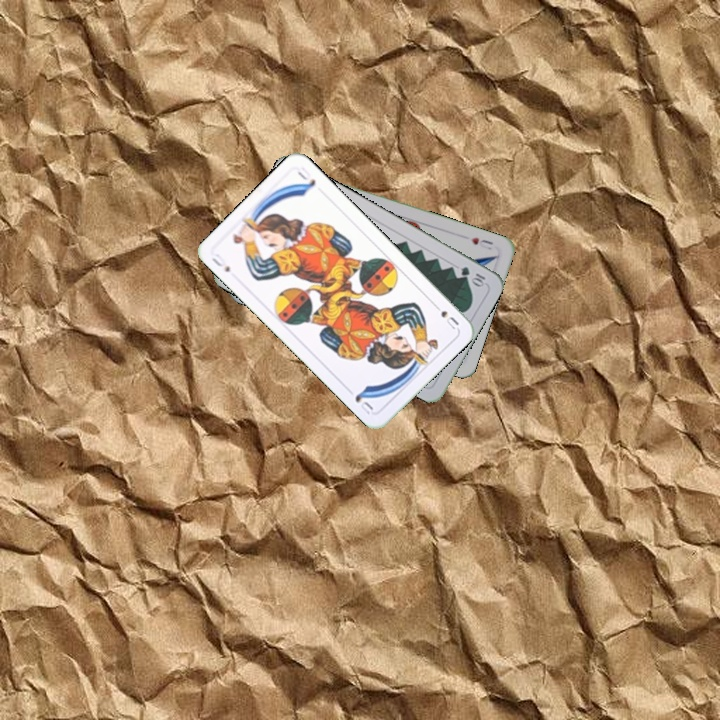G10: (456, 262, 488, 289)
HU: (467, 233, 496, 253)
SU: (428, 299, 462, 332), (207, 249, 233, 275)
